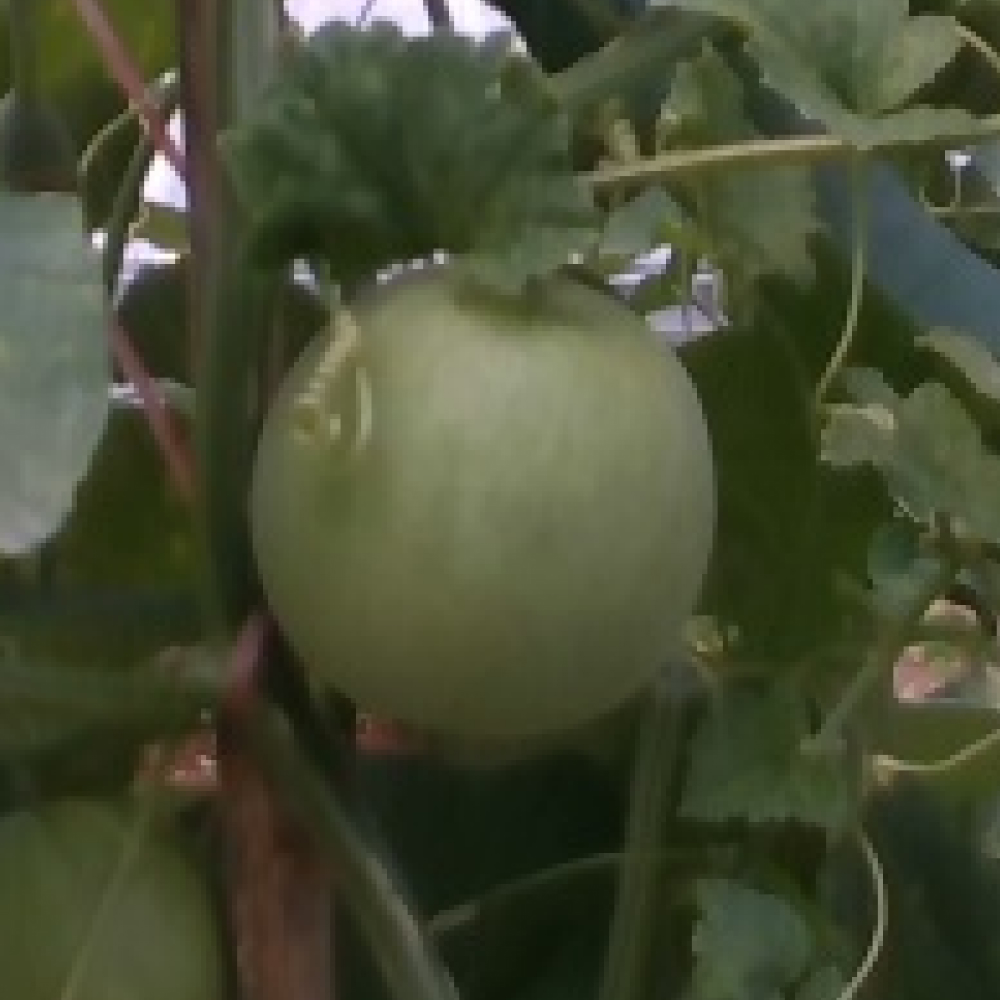melon: (241, 253, 721, 750)
